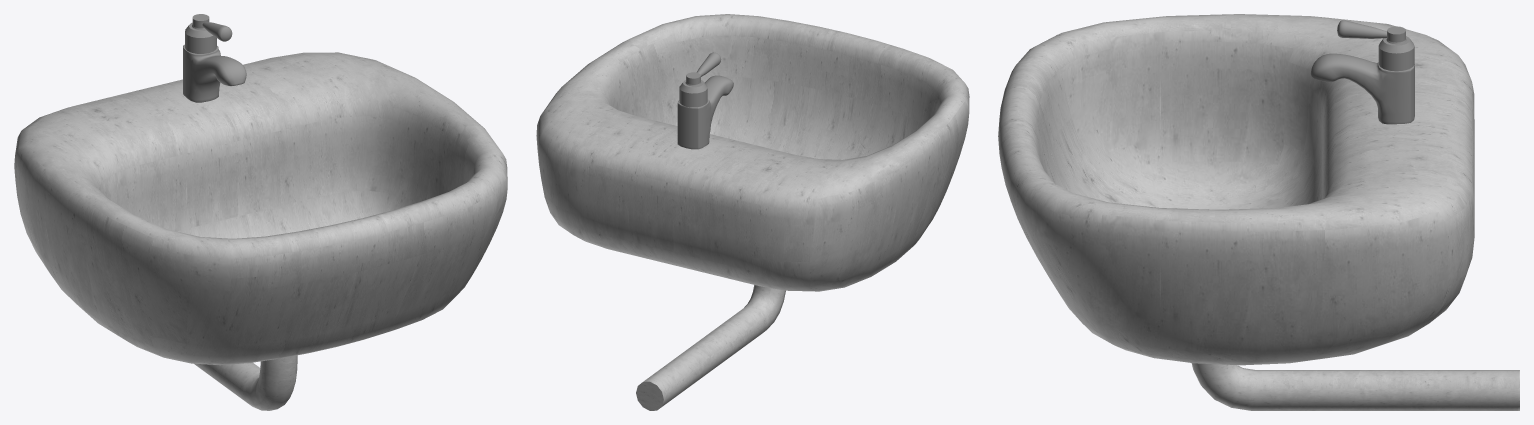
The model's file is Sink.FBX.
3 views of the same model, side by side, from view 1: azimuth 30°, elevation 25°; view 2: azimuth 150°, elevation 25°; view 3: azimuth 270°, elevation 25° (orthographic). The views are drawn at different scales.
Parts seen in each view (by area): view 1: sink; view 2: sink; view 3: sink.
Boxes of the visible parts, x1,y1,x2,y2 form: sink: (14, 14, 507, 410); sink: (536, 14, 969, 410); sink: (998, 14, 1519, 410).
Size of the model in its own units: 56.98 by 48.73 by 58.93.
Materials: 2 (1 with a texture image).
